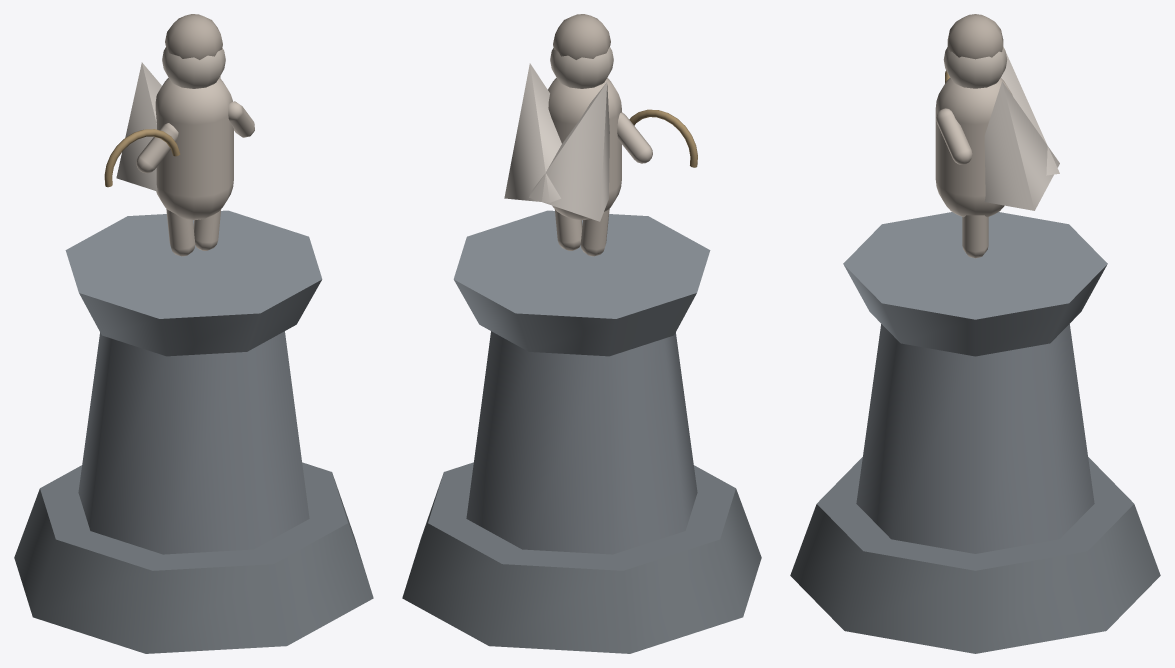
Rendered from cupid-authored-body-authored-vertex-colour-tripo-finish.glb.
The picture shows the model from 3 angles, left to right: view 1: azimuth 30°, elevation 25°; view 2: azimuth 150°, elevation 25°; view 3: azimuth 270°, elevation 25°; orthographic projection.
Parts seen in each view (by area): view 1: Authored shadows true:true, Authored shadows true:false; view 2: Authored shadows true:true, Authored shadows true:false; view 3: Authored shadows true:true, Authored shadows true:false.
Boxes of the visible parts, x1,y1,x2,y2 form: Authored shadows true:true: (14,210,373,653); Authored shadows true:false: (104,14,254,256); Authored shadows true:true: (402,210,761,653); Authored shadows true:false: (504,14,697,256); Authored shadows true:true: (790,212,1160,653); Authored shadows true:false: (935,14,1059,258).
Bounding box in the file's own units: 0.6009 × 1 × 0.6009.
